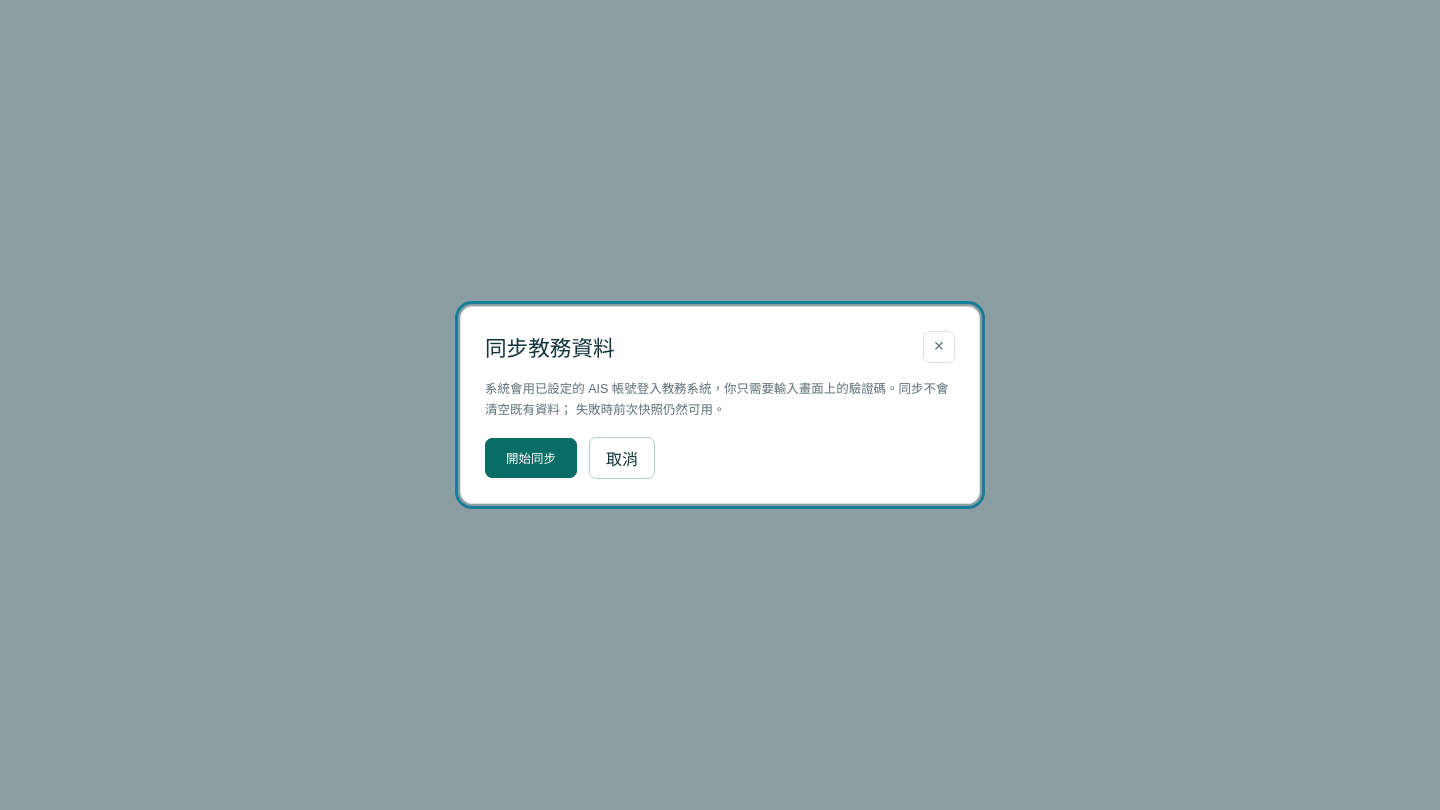
Test: SyncDialog（AIS 同步） › 倒數到 expiresAt 就切到 SYNC_EXPIRED 並停止輸入
Later steps or results of the test are not shown.
Click the button "開始同步" at (531, 458), box [485,438,577,478]
Wait 2000 ms
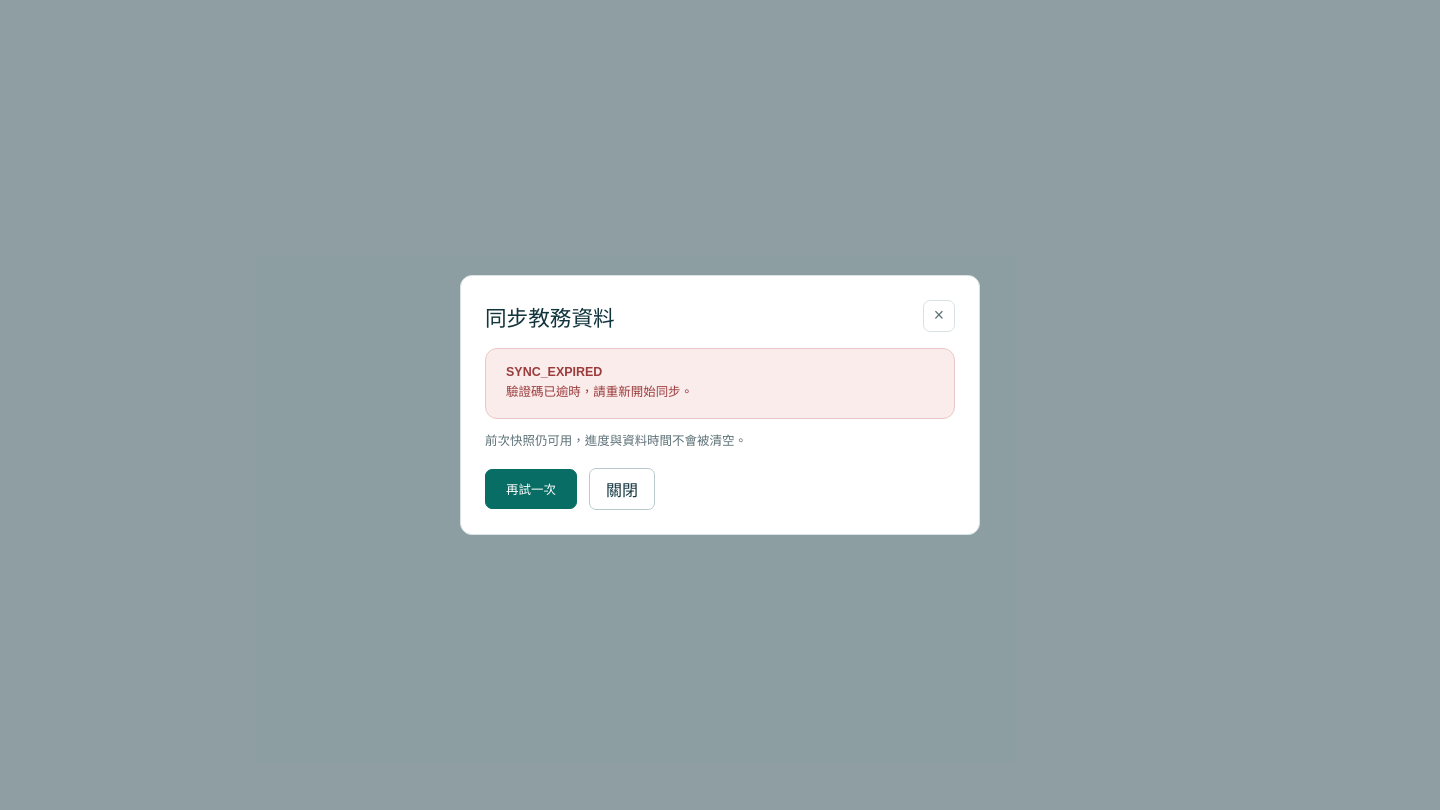
Check: the text "SYNC_EXPIRED" is shown, box [506,365,602,379]
Check: the text "驗證碼已逾時，請重新開始同步。" is shown, box [506,383,693,402]
